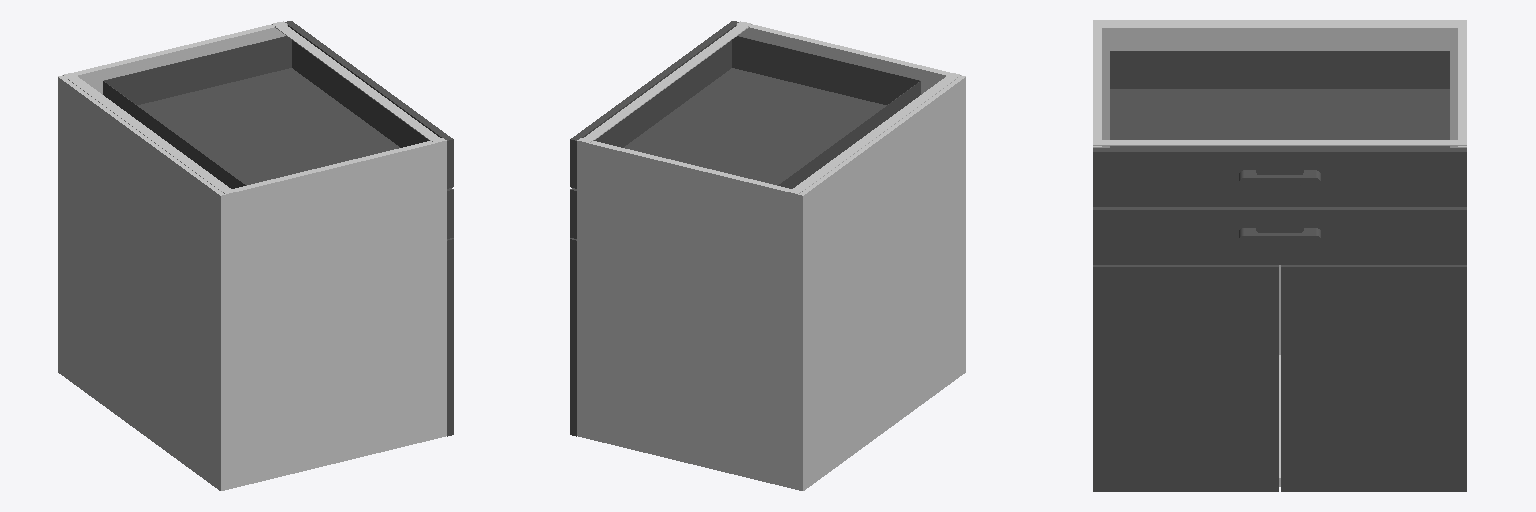
URDF robot description (cabinet_sektion):
<?xml version="1.0"?>
<robot name="cabinet_sektion">
  <material name="White"><color rgba="0.85 0.85 0.85 1.0"/></material>
  <material name="Grey"><color rgba="0.4 0.4 0.4 1.0"/></material>

  <link name="sektion">
    <inertial>
      <origin xyz="0 0 0" rpy="0 0 0"/>
      <mass value="10.0"/>
      <inertia ixx="0.0001" ixy="0" ixz="0" iyy="0.0001" iyz="0" izz="0.0001"/>
    </inertial>
    <collision>
      <origin xyz="0 0 0" rpy="0 0 0"/>
      <geometry>
        <mesh filename="package://cabinet_model/meshes/sektion.stl"/>
      </geometry>
    </collision>
    <visual name="sektion_visual">
      <origin rpy="0  0  0" xyz="0  0  0"/>
      <geometry>
        <mesh filename="package://cabinet_model/meshes/sektion.stl" scale="1.0 1.0 1.0"/>
      </geometry>
      <material name="White" />
    </visual>
  </link>

  <link name="drawer_top">
    <inertial>
      <origin xyz="0 0 0" rpy="0 0 0"/>
      <mass value="1.0"/>
      <inertia ixx="0.0001" ixy="0" ixz="0" iyy="0.0001" iyz="0" izz="0.0001"/>
    </inertial>
    <collision>
      <origin xyz="0 0 0" rpy="0 0 0"/>
      <geometry>
        <mesh filename="package://cabinet_model/meshes/drawer.stl"/>
      </geometry>
    </collision>
    <visual name="drawer_top_visual">
      <origin rpy="0  0  0" xyz="0  0  0"/>
      <geometry>
        <mesh filename="package://cabinet_model/meshes/drawer.stl" scale="1.0 1.0 1.0"/>
      </geometry>
      <material name="Grey" />
    </visual>
  </link>

  <link name="drawer_bottom">
    <inertial>
      <origin xyz="0 0 0" rpy="0 0 0"/>
      <mass value="1.0"/>
      <inertia ixx="0.0001" ixy="0" ixz="0" iyy="0.0001" iyz="0" izz="0.0001"/>
    </inertial>
    <collision>
      <origin xyz="0 0 0" rpy="0 0 0"/>
      <geometry>
        <mesh filename="package://cabinet_model/meshes/drawer.stl"/>
      </geometry>
    </collision>
    <visual name="drawer_bottom_visual">
      <origin rpy="0  0  0" xyz="0  0  0"/>
      <geometry>
        <mesh filename="package://cabinet_model/meshes/drawer.stl" scale="1.0 1.0 1.0"/>
      </geometry>
      <material name="Grey" />
    </visual>
  </link>

  <link name="door_right_anchor_link" />
  <link name="door_right_joint_anchor_link" />
  <link name="door_right_link">
    <inertial>
      <origin xyz="0 0 0" rpy="0 0 0"/>
      <mass value="1.0"/>
      <inertia ixx="0.0001" ixy="0" ixz="0" iyy="0.0001" iyz="0" izz="0.0001"/>
    </inertial>
    <collision>
      <origin xyz="0 0 0" rpy="0 0 0"/>
      <geometry>
        <mesh filename="package://cabinet_model/meshes/drawer.stl"/>
      </geometry>
    </collision>
    <visual name="door_right_visual">
      <origin rpy="0  0  0" xyz="0  -0.184706  0"/>
      <geometry>
        <mesh filename="package://cabinet_model/meshes/door.stl" scale="1.0 1.0 1.0"/>
      </geometry>
      <material name="Grey" />
    </visual>
  </link>

  <link name="door_left_anchor_link" />
  <link name="door_left_joint_anchor_link" />
  <link name="door_left_link">
    <inertial>
      <origin xyz="0 0 0" rpy="0 0 0"/>
      <mass value="1.0"/>
      <inertia ixx="0.0001" ixy="0" ixz="0" iyy="0.0001" iyz="0" izz="0.0001"/>
    </inertial>
    <collision>
      <origin xyz="0 0 0" rpy="0 0 0"/>
      <geometry>
        <mesh filename="package://cabinet_model/meshes/drawer.stl"/>
      </geometry>
    </collision>
    <visual name="door_left_visual">
      <origin rpy="0  0  0" xyz="0  0.184706  0"/>
      <geometry>
        <mesh filename="package://cabinet_model/meshes/door.stl" scale="1.0 1.0 1.0"/>
      </geometry>
      <material name="Grey" />
    </visual>
  </link>


  <joint name="door_right_joint_fixed" type="fixed">
    <parent link="sektion"/>
    <child link="door_right_anchor_link"/>
    <origin xyz="0.3162 0.3757 -0.12973" rpy="0 0 0"/>
  </joint>
  <joint name="door_right_shift_joint" type="prismatic">
    <parent link="door_right_anchor_link"/>
    <child link="door_right_joint_anchor_link"/>
    <origin xyz="0 0 0" rpy="0 0 0"/>
    <axis xyz="0 1 0"/>
    <limit effort="1000.0" lower="0" upper="-0.015" velocity="0.0"/>
    <mimic joint="door_right_joint" multiplier="-0.009554" offset="0" />
  </joint>
  <joint name="door_right_joint" type="revolute">
    <parent link="door_right_joint_anchor_link"/>
    <child link="door_right_link"/>
    <origin xyz="0 0 0" rpy="0 0 0"/>
    <axis xyz="0 0 1"/>
    <limit effort="1000.0" lower="0" upper="1.57" velocity="0.1"/>
  </joint>

  <joint name="door_left_joint_fixed" type="fixed">
    <parent link="sektion"/>
    <child link="door_left_anchor_link"/>
    <origin xyz="0.3162 -0.3757 -0.12973" rpy="0 0 0"/>
  </joint>
  <joint name="door_left_shift_joint" type="prismatic">
    <parent link="door_left_anchor_link"/>
    <child link="door_left_joint_anchor_link"/>
    <origin xyz="0 0 0" rpy="0 0 0"/>
    <axis xyz="0 1 0"/>
    <limit effort="1000.0" lower="0" upper="-0.015" velocity="0.0"/>
    <mimic joint="door_left_joint" multiplier="-0.009554" offset="0" />
  </joint>
  <joint name="door_left_joint" type="revolute">
    <parent link="door_left_joint_anchor_link"/>
    <child link="door_left_link"/>
    <origin xyz="0 0 0" rpy="0 0 0"/>
    <axis xyz="0 0 1"/>
    <limit effort="1000.0" lower="0" upper="-1.57" velocity="0.1"/>
  </joint>


  <joint name="drawer_top_joint" type="prismatic">
    <parent link="sektion"/>
    <child link="drawer_top"/>
    <origin xyz="0.0515 0 0.3172" rpy="0 0 0"/>
    <axis xyz="1 0 0"/>
    <limit effort="1000.0" lower="0.0" upper="0.4" velocity="0.1"/>
  </joint>

  <joint name="drawer_bottom_joint" type="prismatic">
    <parent link="sektion"/>
    <child link="drawer_bottom"/>
    <origin xyz="0.0515 0 0.18795" rpy="0 0 0"/>
    <axis xyz="1 0 0"/>
    <limit effort="1000.0" lower="0.0" upper="0.4" velocity="0.0"/>
  </joint>

</robot>

--- Facts derived from the render (not from the file) ---
3 views of the same robot in one strip: view 1: azimuth 30°, elevation 25°; view 2: azimuth 150°, elevation 25°; view 3: azimuth 270°, elevation 25° (orthographic).
Robot: cabinet_sektion — 9 links, 8 joints (2 revolute, 4 prismatic, 2 fixed); root link sektion; default pose: all joints at 0.
Links seen in each view (by area): view 1: sektion, drawer_top, door_left_link; view 2: sektion, drawer_top, door_right_link; view 3: drawer_top, door_right_link, door_left_link, drawer_bottom, sektion.
Boxes of the visible links, <box> form: sektion: <box>58,21,446,490</box>; drawer_top: <box>103,21,453,188</box>; door_left_link: <box>447,238,453,436</box>; sektion: <box>577,21,965,490</box>; drawer_top: <box>570,21,920,188</box>; door_right_link: <box>570,238,576,436</box>; drawer_top: <box>1093,51,1466,206</box>; door_right_link: <box>1281,265,1466,491</box>; door_left_link: <box>1093,265,1278,491</box>; drawer_bottom: <box>1093,207,1466,264</box>; sektion: <box>1093,20,1466,486</box>.
Size in the robot's own frame: 0.6678 by 0.762 by 0.7641 metres.
Meshes: 3 distinct files referenced, 5 mesh visuals loaded (3 binary STL).